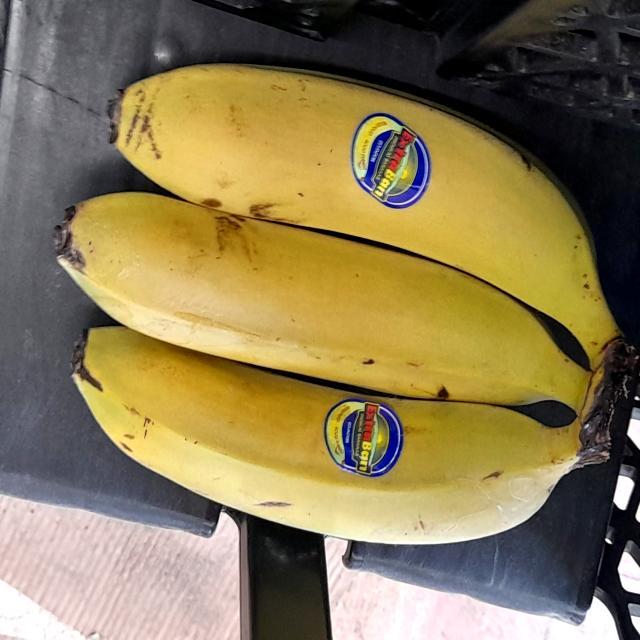banana: (57, 64, 624, 525), (53, 181, 638, 427)
